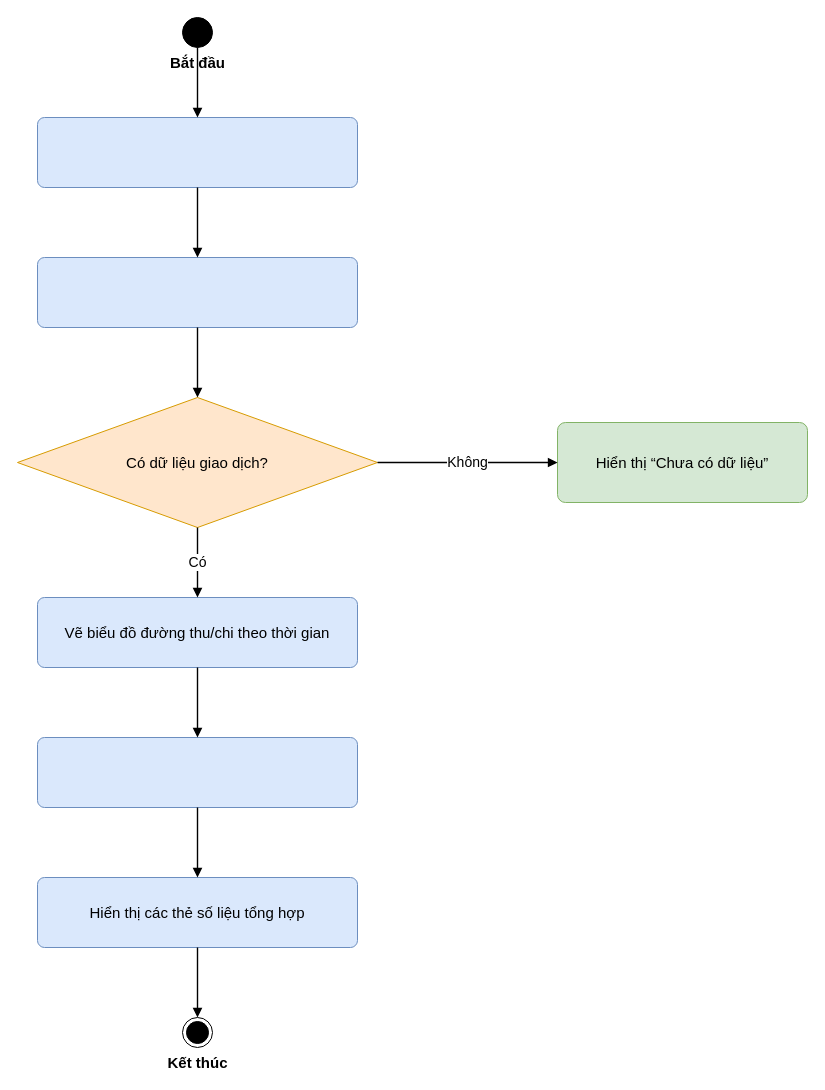
The diagram is 825 pixels wide and 1090 high, and some of its shapes have lost their labels. Here are the shapes that lost their labels. From the top down, the centre of each, then its label:
At (197,152): "Mở trang Tổng quan hoặc Thống kê & báo cáo".
At (197,292): "Lấy số dư, tổng thu, tổng chi, số liệu theo tháng và theo danh mục".
At (197,772): "Vẽ biểu đồ tròn chi tiêu theo danh mục".
